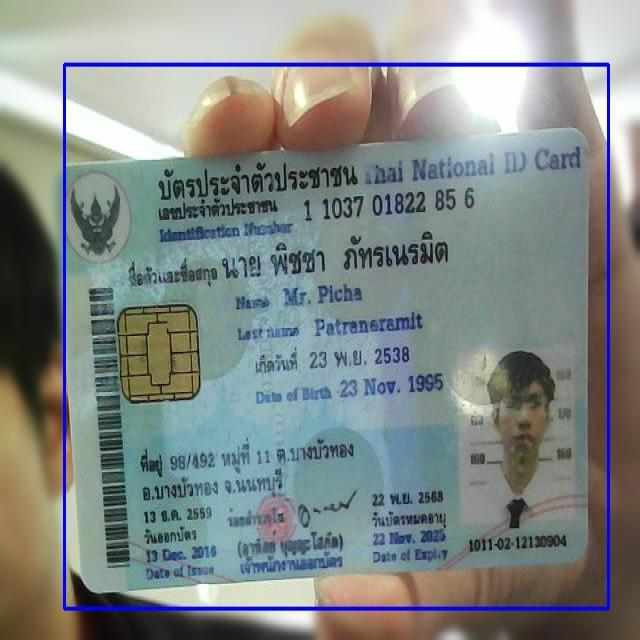Address_th: (128, 427, 359, 509)
Date_of_Birth: (336, 370, 447, 402)
Date_of_Expiry: (370, 526, 450, 550)
Date_of_Issue: (141, 544, 221, 564)
First_Name: (278, 280, 365, 311)
ID_Number: (301, 187, 484, 226)
Image: (457, 350, 575, 529)
Last_Name: (310, 308, 426, 340)
Thai_Name: (222, 227, 454, 284)
